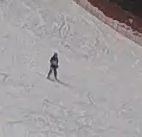skier: (34, 47, 73, 90)
